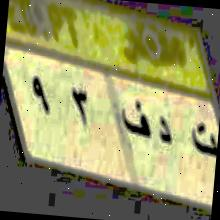3: (66, 81, 93, 139)
9: (27, 69, 55, 128)
daal: (154, 110, 177, 158)
faa: (118, 94, 152, 151)
taa: (184, 116, 220, 172)
